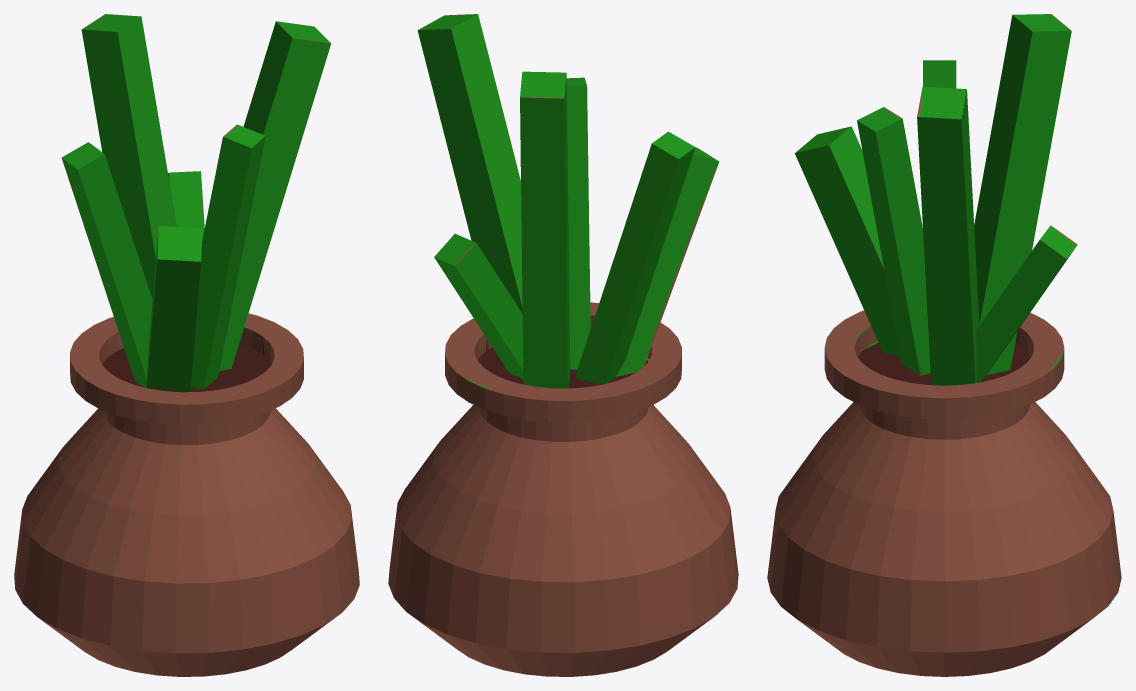
The model's file is plant.fbx.
3 views of the same model, side by side, from view 1: azimuth 30°, elevation 25°; view 2: azimuth 150°, elevation 25°; view 3: azimuth 270°, elevation 25° (orthographic). The views are drawn at different scales.
Visible parts, largest first — view 1: Plant; view 2: Plant; view 3: Plant.
Boxes of the visible parts, x1,y1,x2,y2 form: Plant: (14, 14, 359, 676); Plant: (388, 14, 738, 676); Plant: (767, 14, 1121, 676).
Bounding box in the file's own units: 294 × 542 × 294.
